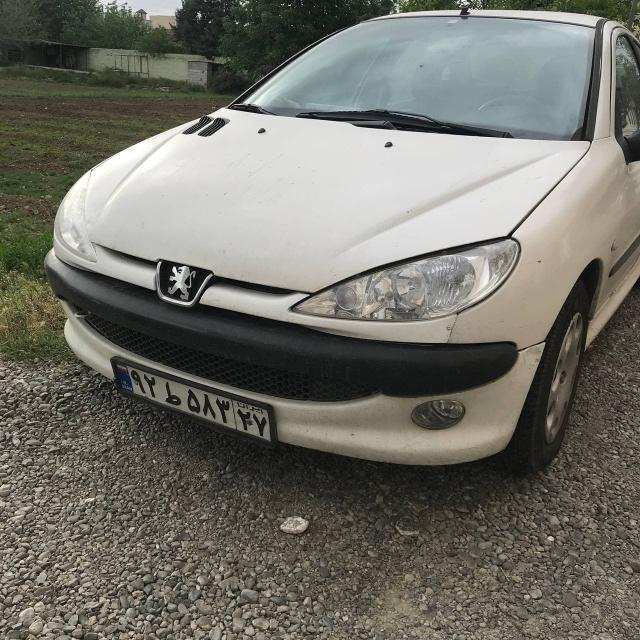Plates: (103, 361, 280, 442)
